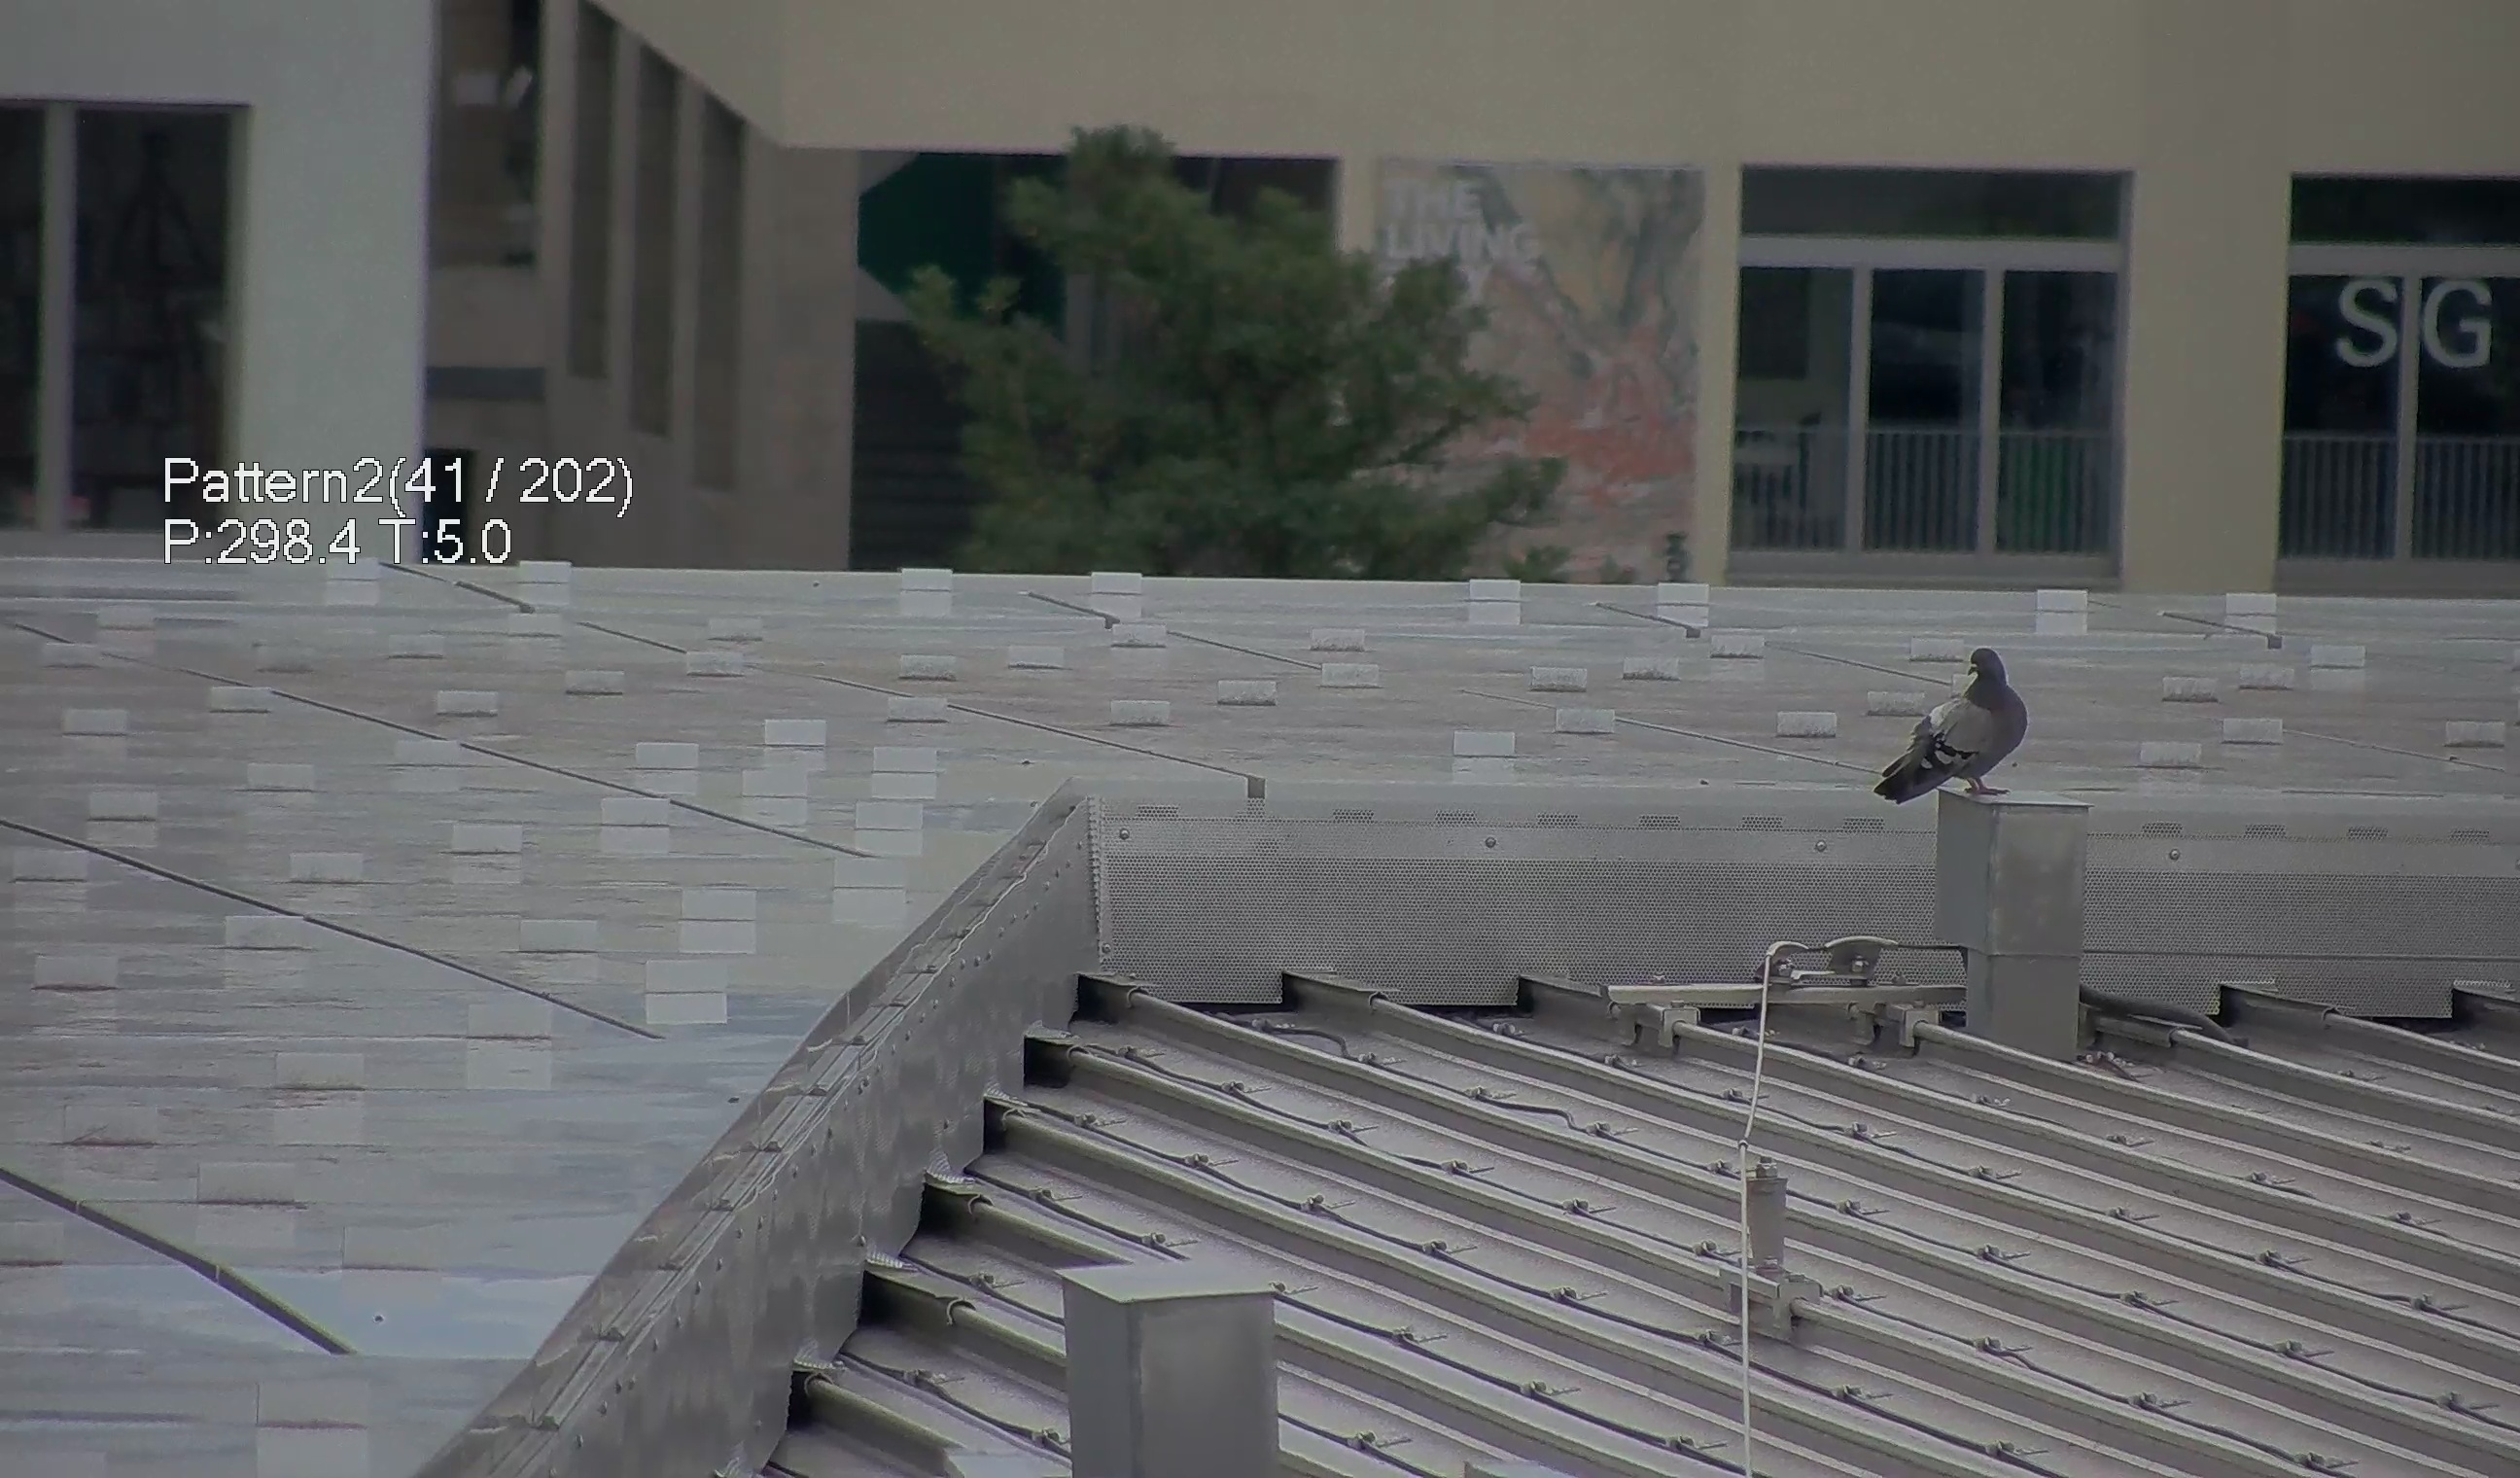Pigeon: (1883, 639, 2045, 818)
